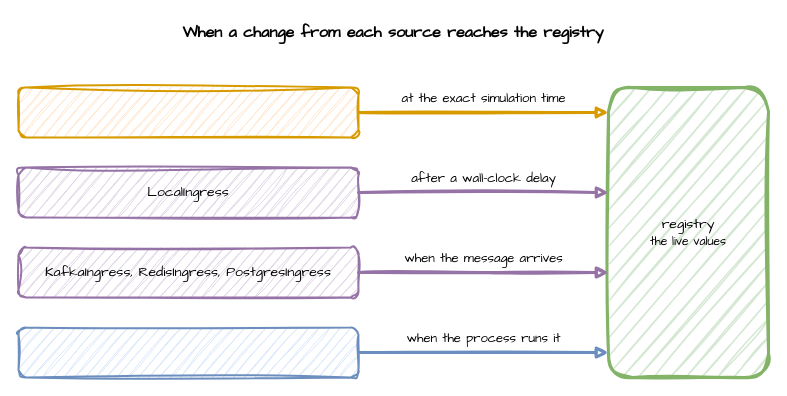
Some shapes in this 787 by 396 pixel diagram are drawn without their labels. The centre of each missing label's shape, as x and y in pixels:
a process calling registry.update: the point at 188,352
YAML scenario: the point at 188,112
